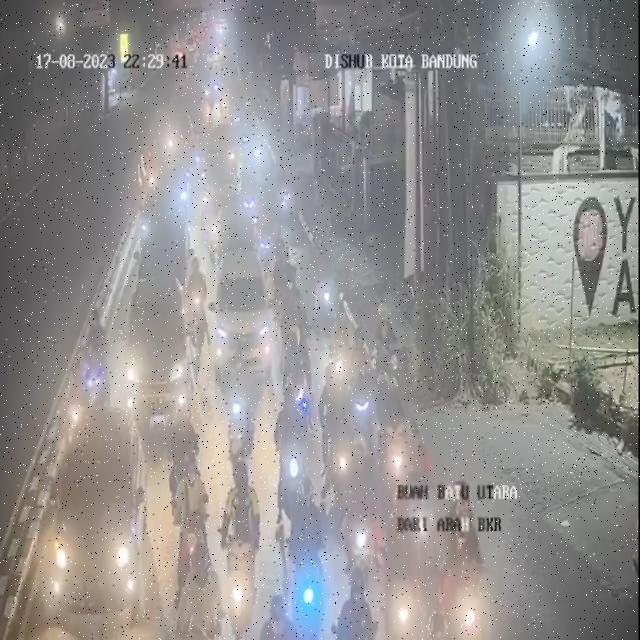cars: (47, 405, 154, 634), (117, 275, 198, 447), (212, 245, 277, 382), (0, 615, 117, 640), (210, 111, 242, 179)
motorcycle: (434, 483, 489, 640), (341, 427, 389, 580), (378, 493, 420, 640), (225, 480, 261, 640), (274, 382, 311, 534), (171, 539, 223, 640), (372, 371, 410, 494), (172, 448, 206, 582), (223, 350, 260, 469), (338, 554, 378, 638), (309, 237, 341, 335), (406, 413, 432, 528), (80, 308, 110, 406), (328, 305, 353, 407), (354, 350, 376, 451), (185, 250, 206, 328), (171, 152, 191, 228), (284, 277, 306, 346), (248, 114, 268, 175), (277, 170, 298, 228), (260, 598, 288, 640), (274, 241, 296, 292), (244, 176, 261, 232), (202, 202, 218, 252), (190, 128, 202, 173)
